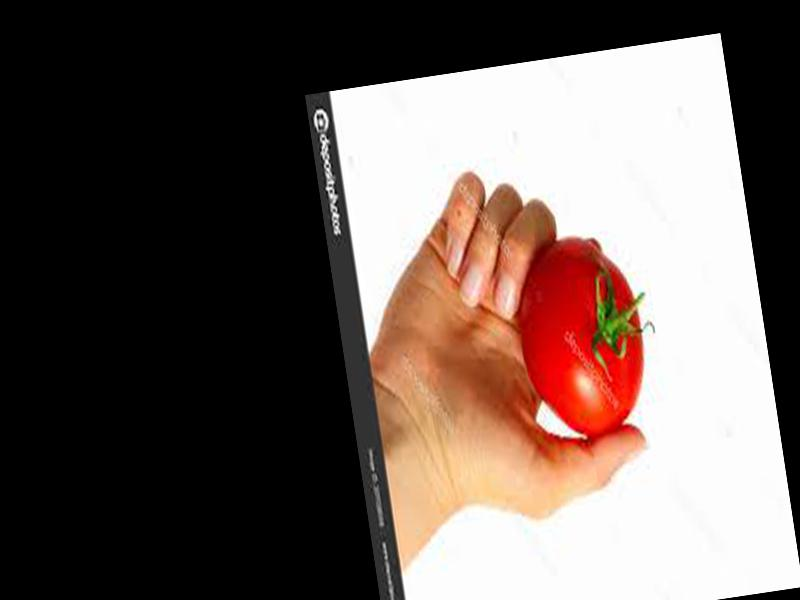Tomato: (507, 233, 656, 444)
